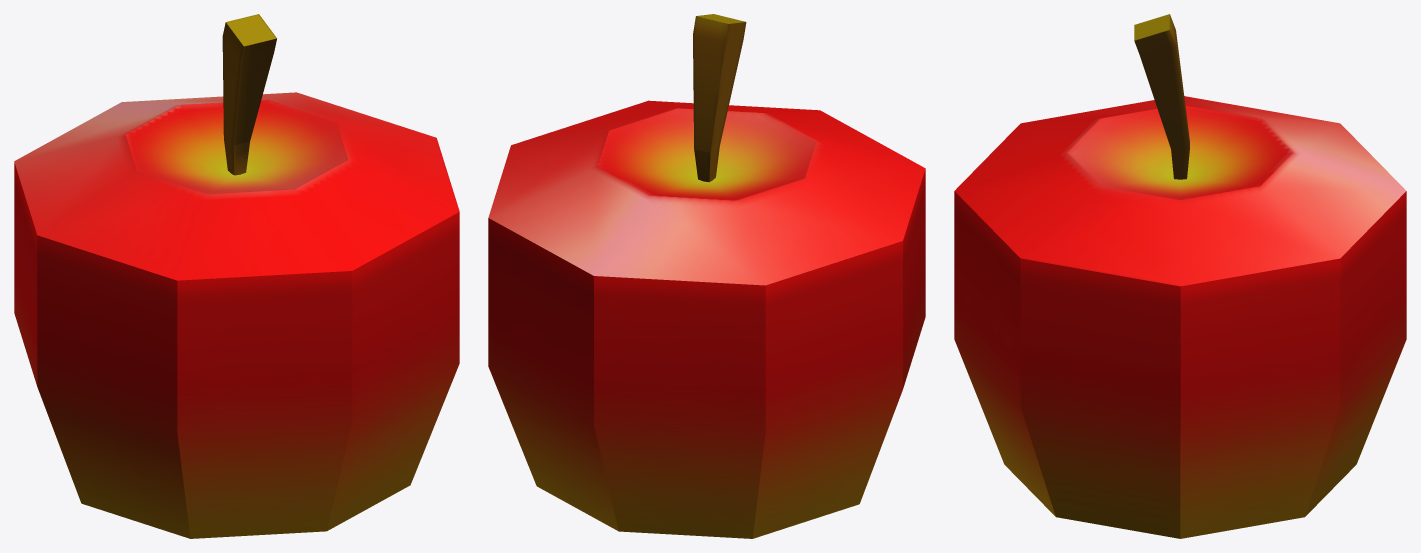
File: Apple.fbx
3 views of the same model, side by side, from view 1: azimuth 30°, elevation 25°; view 2: azimuth 150°, elevation 25°; view 3: azimuth 270°, elevation 25° (orthographic). The views are drawn at different scales.
Visible parts, largest first — view 1: apple; view 2: apple; view 3: apple.
Boxes of the visible parts, <box> form: apple: <box>14,14,459,538</box>; apple: <box>488,14,925,538</box>; apple: <box>954,14,1406,538</box>.
Size of the model in its own units: 77.02 by 86.51 by 77.02.
1 material, 1 textured.
